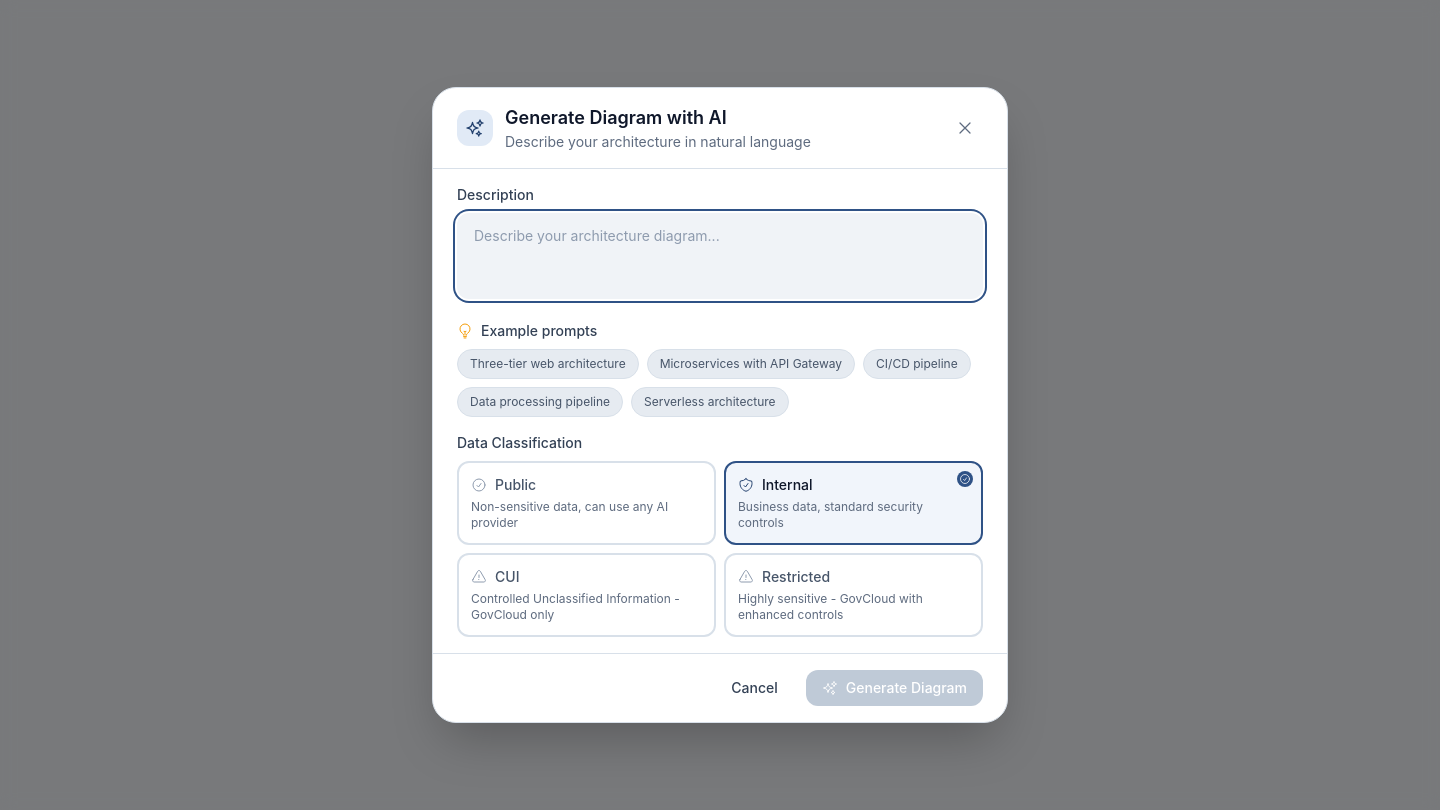
AIGenerationDialog › Keyboard Navigation › Generate button is keyboard accessible when enabled
In the text box: x=720, y=256 [457,213,983,299], type "Test prompt"
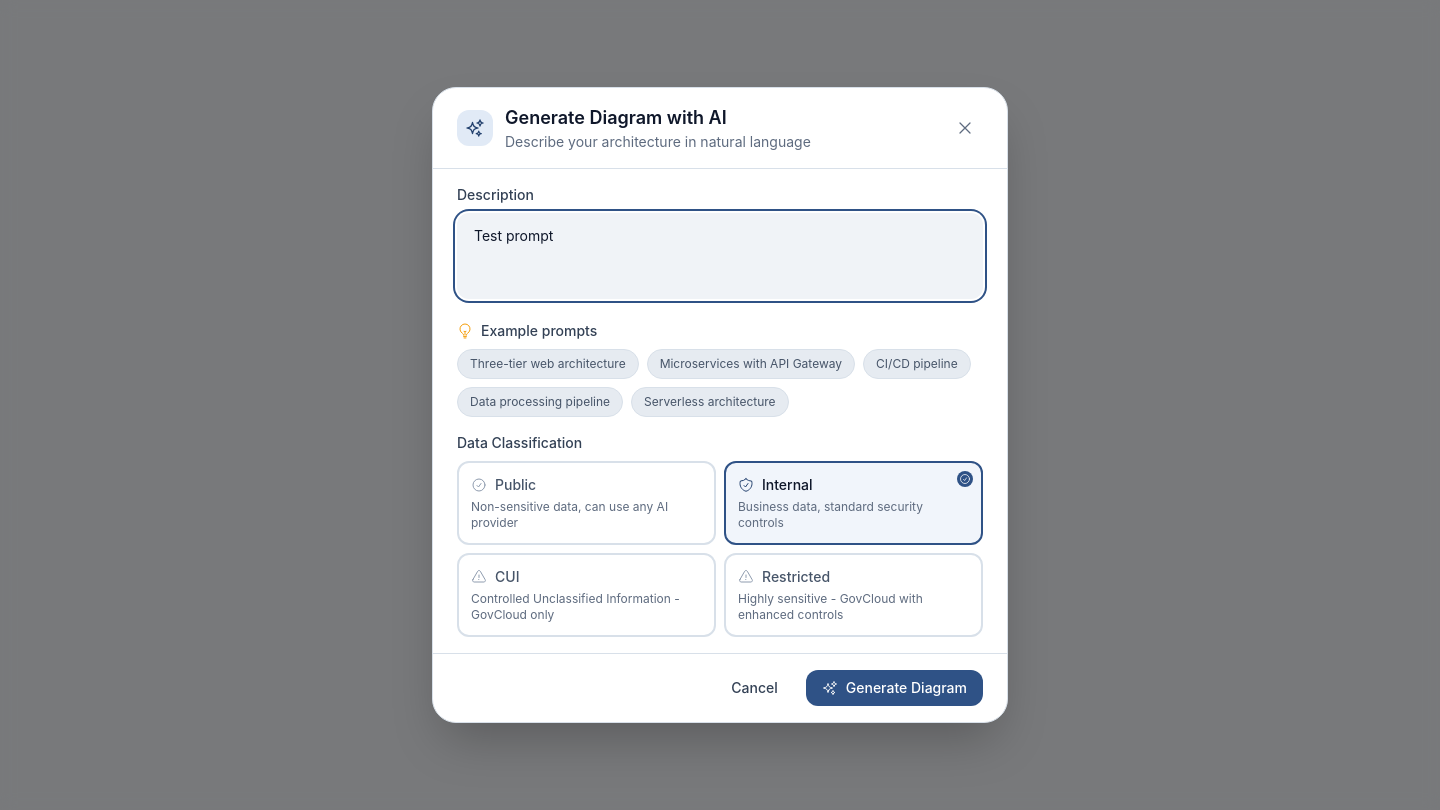
Check: the button "Generate Diagram" is enabled, box [806,670,983,706]
